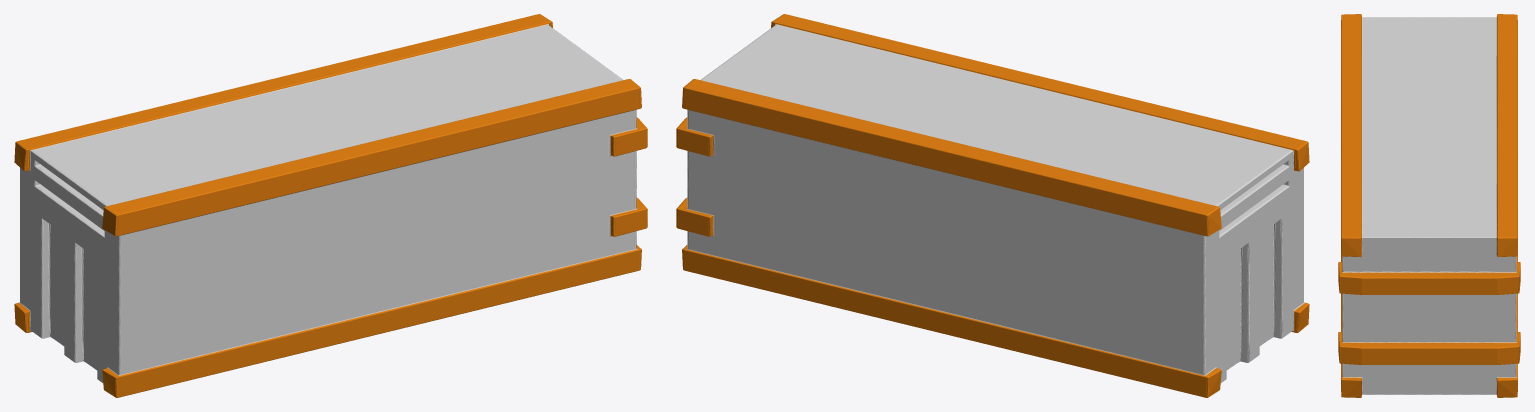
Rendered from Container.fbx.
3 renders of one model, left to right at view 1: azimuth 30°, elevation 25°; view 2: azimuth 150°, elevation 25°; view 3: azimuth 270°, elevation 25°, orthographic. The views are drawn at different scales.
Visible parts, largest first — view 1: Container; view 2: Container; view 3: Container.
Boxes of the visible parts, x1=… form: Container: x1=14, y1=14, x2=647, y2=397; Container: x1=676, y1=14, x2=1309, y2=397; Container: x1=1338, y1=14, x2=1520, y2=397.
Bounding box in the file's own units: 622 × 204 × 210.
